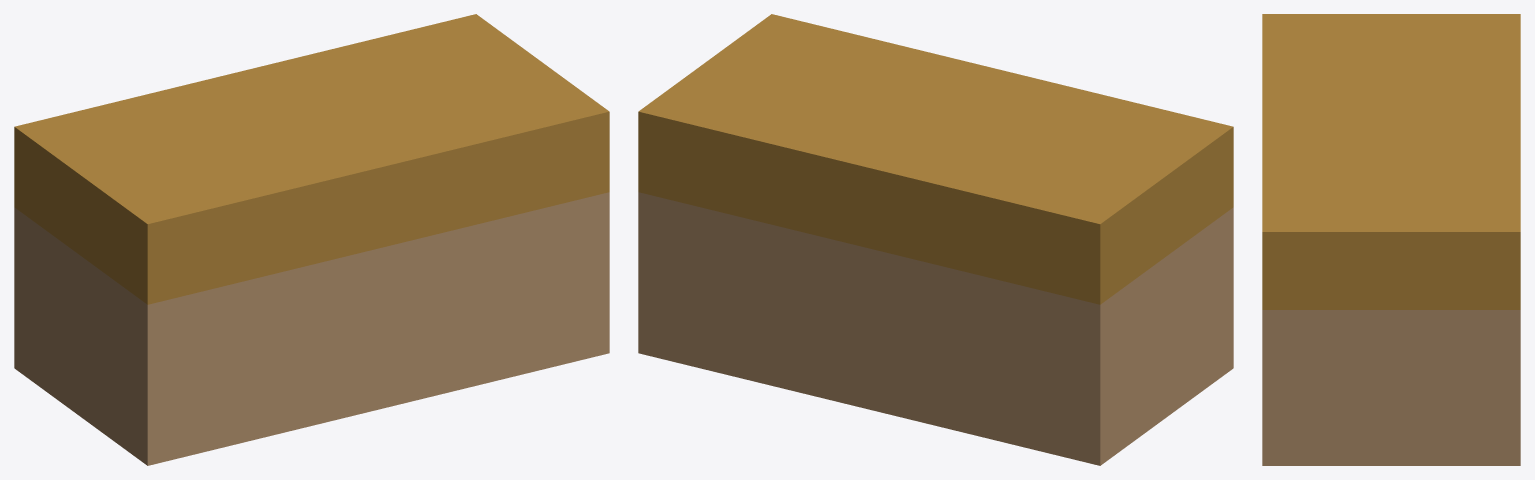
File: Bread.obj
The picture shows the model from 3 angles, left to right: view 1: azimuth 30°, elevation 25°; view 2: azimuth 150°, elevation 25°; view 3: azimuth 270°, elevation 25°; orthographic projection. The views are drawn at different scales.
Parts seen in each view (by area): view 1: Bread; view 2: Bread; view 3: Bread.
Part boxes in pixels (bbox=[...]): Bread: bbox=[14, 14, 609, 465]; Bread: bbox=[638, 14, 1233, 465]; Bread: bbox=[1262, 14, 1520, 465].
Size of the model in its own units: 6 by 3 by 3.
Materials: 1 (1 with a texture image).
